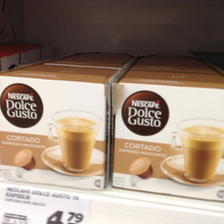coffee: (110, 70, 224, 202), (2, 65, 118, 189)
